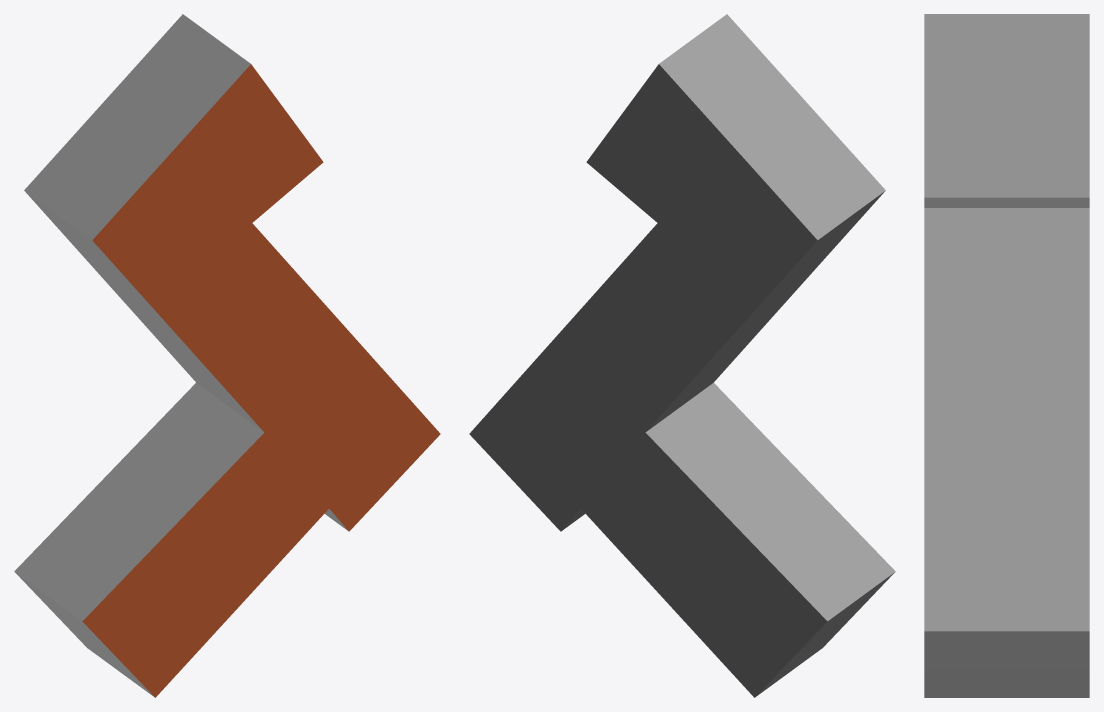
The model's file is construction_6888_assumed_A_Casa_h6m.obj.
3 renders of one model, left to right at view 1: azimuth 30°, elevation 25°; view 2: azimuth 150°, elevation 25°; view 3: azimuth 270°, elevation 25°, orthographic. The views are drawn at different scales.
Parts seen in each view (by area): view 1: construction_6888_assumed_A_Casa; view 2: construction_6888_assumed_A_Casa; view 3: construction_6888_assumed_A_Casa.
Boxes of the visible parts, x1,y1,x2,y2 form: construction_6888_assumed_A_Casa: (14,14,440,697); construction_6888_assumed_A_Casa: (469,14,895,697); construction_6888_assumed_A_Casa: (924,14,1089,697).
Bounding box in the file's own units: 18.19 × 29.62 × 6.
